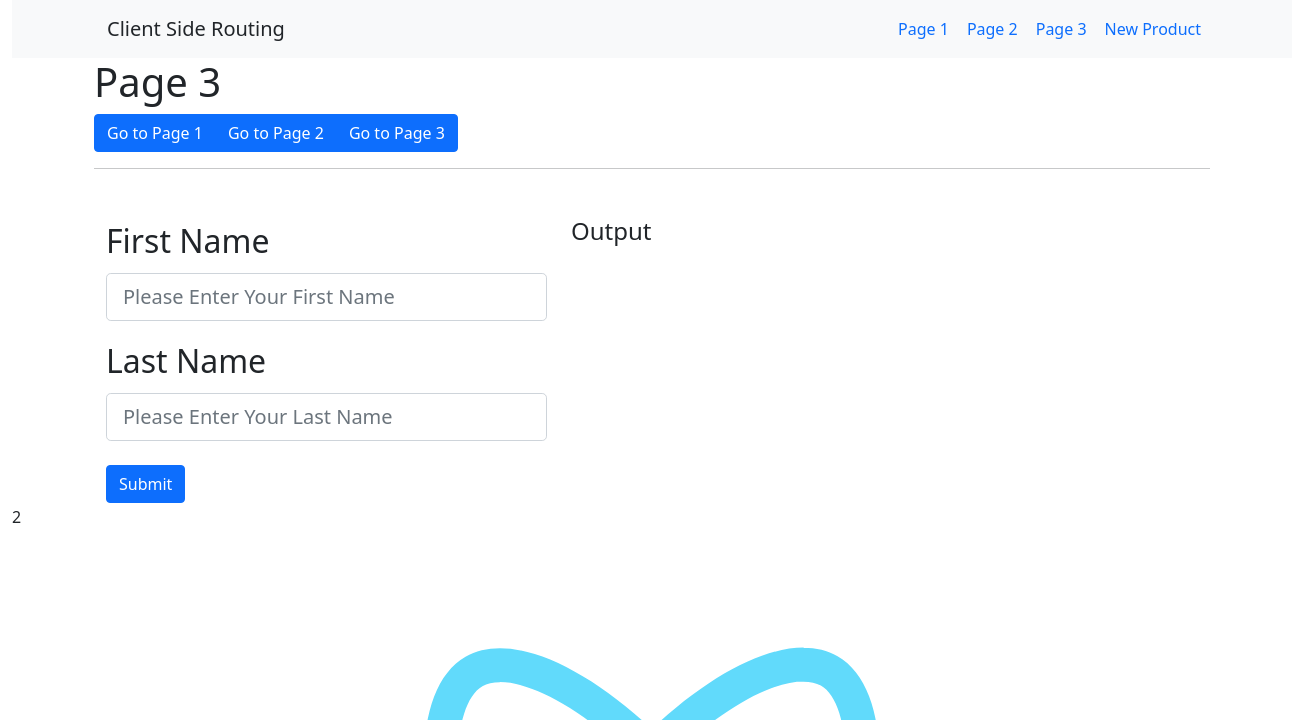
Test: Using useNavigate React Router Hook › Clicking the 'Go to Page 1' button should navigate you to Page 1
The width and height of the screenshot is (1304, 720).
Click the button "Go to Page 1". click: click(155, 133)
box: x1=94 y1=114 x2=216 y2=152
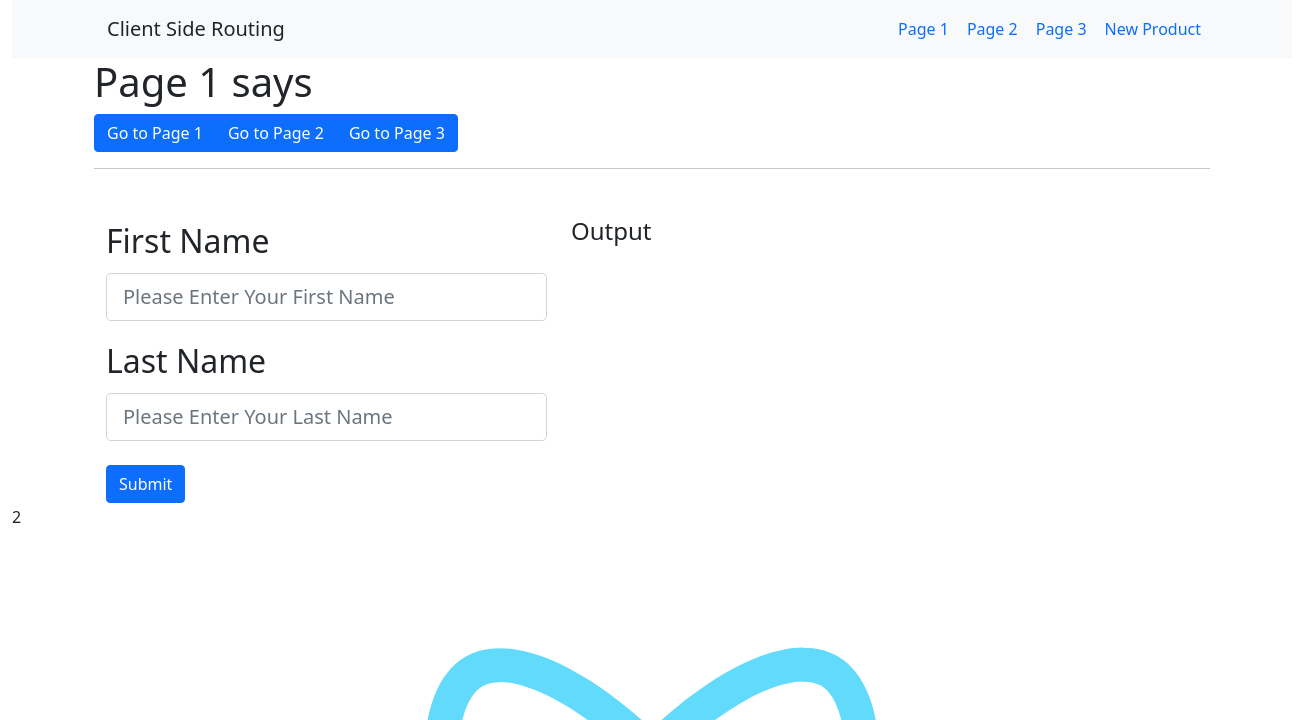
expect the heading "Page 1 says" is shown: met, box x1=94 y1=54 x2=313 y2=109
